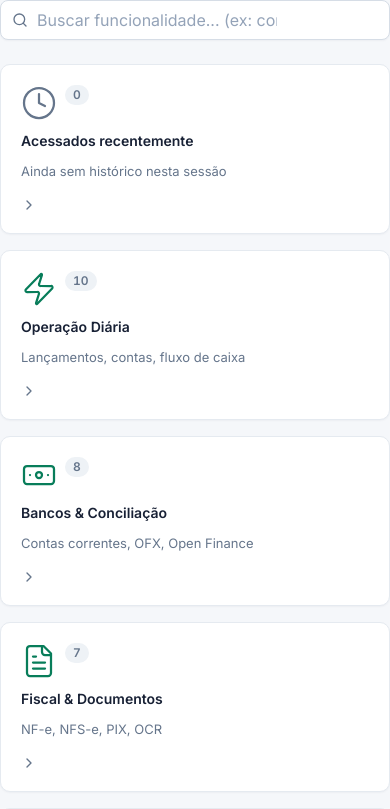
FinHomeHub — estante de pastas › abre a pasta e mostra só o que está dentro dela
Step 1. Click the text "Bancos & Conciliação" → x=94, y=513, box top-left (21, 501), bottom-right (167, 525)
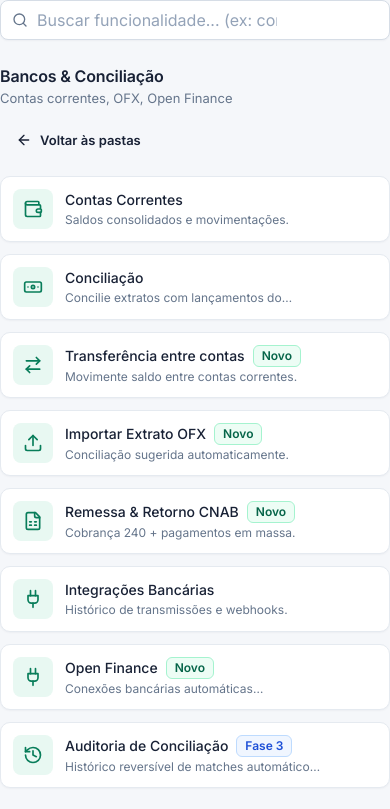
Result: the text "Contas Correntes" is shown at top-left (65, 190), bottom-right (183, 210)
Result: the text "Conciliação" is shown at top-left (65, 268), bottom-right (143, 288)
Result: the text "Transferência entre contas" is shown at top-left (65, 346), bottom-right (245, 366)
